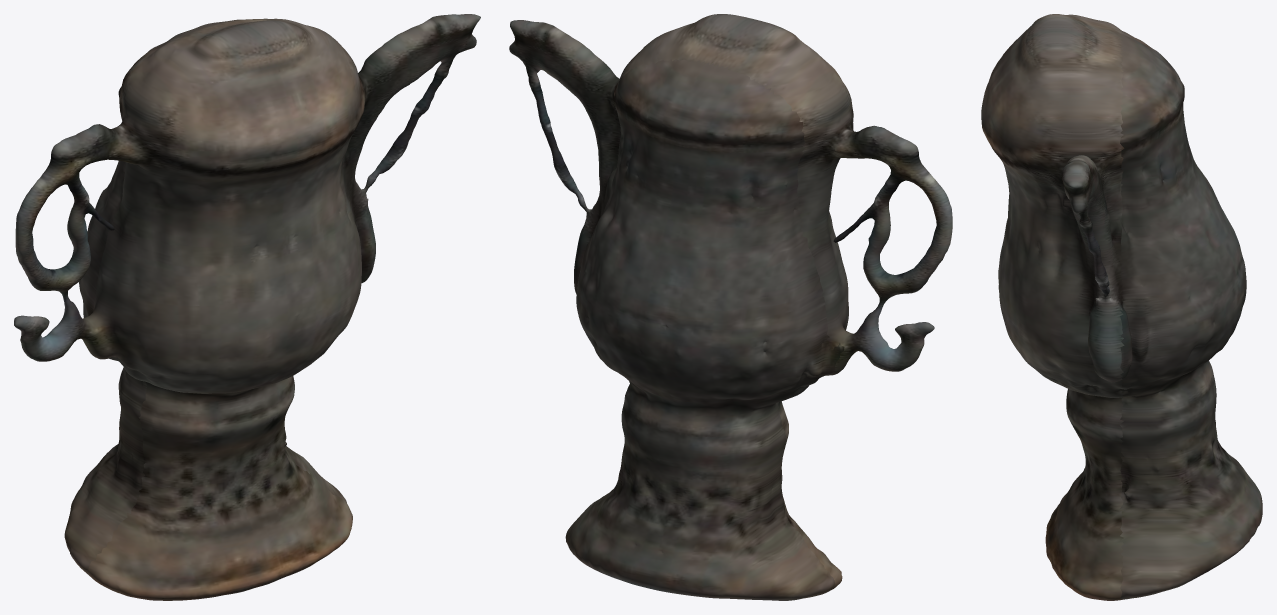
File: kfl-2317.glb
The picture shows the model from 3 angles, left to right: view 1: azimuth 30°, elevation 25°; view 2: azimuth 150°, elevation 25°; view 3: azimuth 270°, elevation 25°; orthographic projection. The views are drawn at different scales.
Visible parts, largest first — view 1: geometry_0; view 2: geometry_0; view 3: geometry_0.
Boxes of the visible parts, x1,y1,x2,y2 form: geometry_0: [14, 14, 480, 600]; geometry_0: [509, 14, 952, 600]; geometry_0: [981, 14, 1262, 600].
Size of the model in its own units: 0.8676 by 0.9975 by 0.482.
1 material, 1 textured.
